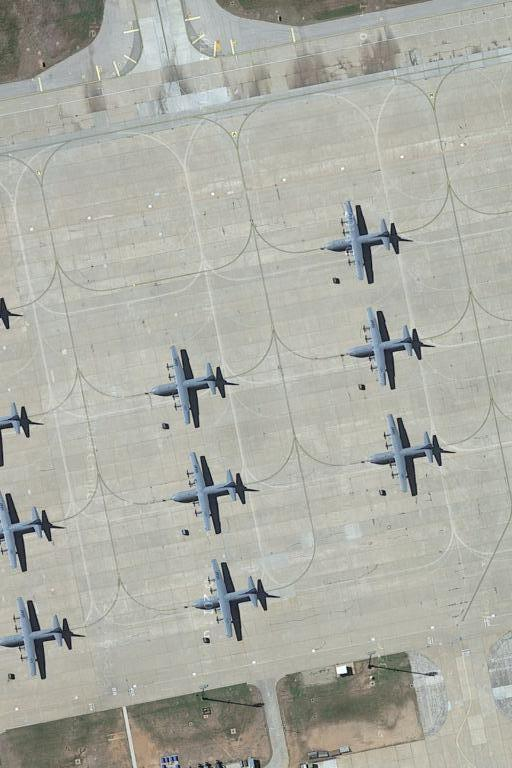C-130: (320, 197, 409, 284), (189, 558, 276, 647), (1, 592, 84, 681), (367, 417, 454, 499), (149, 346, 236, 428), (169, 454, 257, 535), (344, 310, 425, 392), (1, 495, 52, 569)
